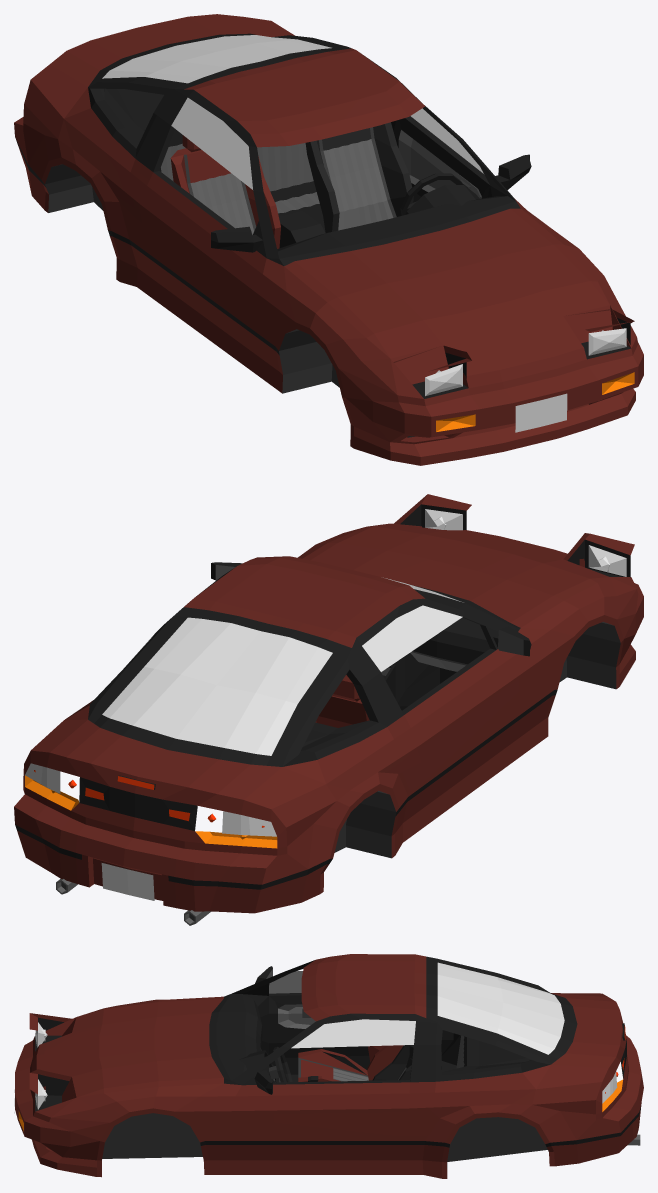
3 renders of one model, top to bottom at view 1: azimuth 30°, elevation 25°; view 2: azimuth 150°, elevation 25°; view 3: azimuth 270°, elevation 25°, orthographic. The views are drawn at different scales.
Parts seen in each view (by area): view 1: Plane.002, Cube, Cube.002, Plane.001, Cylinder.004; view 2: Plane.002, Plane.001, Cube.002; view 3: Plane.002, Cube.002, Plane.001, Cube, Cylinder.004.
Boxes of the visible parts, bbox=[...] form: Plane.002: bbox=[14, 14, 643, 465]; Cube: bbox=[305, 122, 413, 233]; Cube.002: bbox=[170, 135, 280, 248]; Plane.001: bbox=[393, 309, 634, 396]; Cylinder.004: bbox=[400, 173, 479, 215]; Plane.002: bbox=[14, 523, 643, 925]; Plane.001: bbox=[394, 494, 634, 577]; Cube.002: bbox=[315, 675, 369, 727]; Plane.002: bbox=[14, 954, 643, 1178]; Cube.002: bbox=[298, 1045, 403, 1081]; Plane.001: bbox=[29, 1013, 72, 1109]; Cube: bbox=[372, 1045, 413, 1080]; Cylinder.004: bbox=[238, 1046, 292, 1082].
Size of the model in its own units: 1.99 by 1.15 by 4.52.
